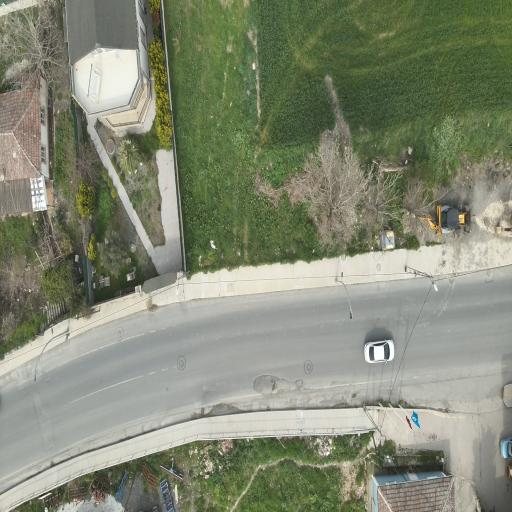car: (364, 340, 395, 363), (500, 438, 511, 459)
